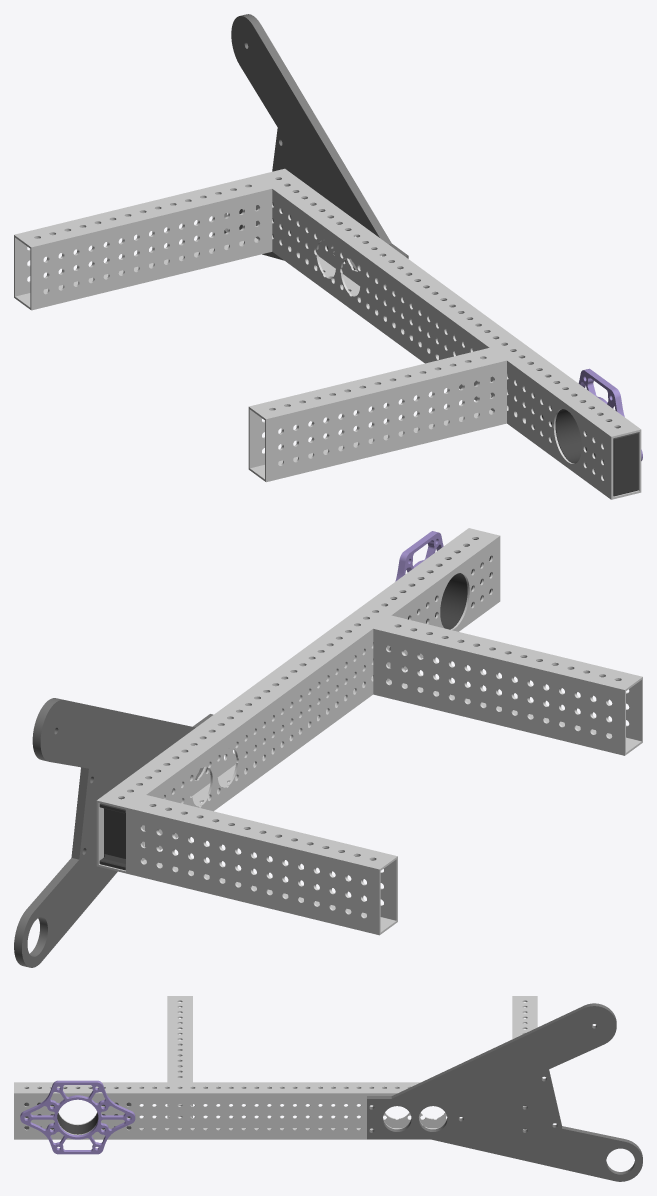
3 renders of one model, top to bottom at view 1: azimuth 30°, elevation 25°; view 2: azimuth 150°, elevation 25°; view 3: azimuth 270°, elevation 25°, orthographic. The views are drawn at different scales.
Parts seen in each view (by area): view 1: Tube 2"x1"x8" (×2), Tube 2"x1"x20.5", Part 8, Anti-Crush Block Sprocket, Sprocket Spacer; view 2: Tube 2"x1"x8" (×2), Tube 2"x1"x20.5", Part 8, Anti-Crush Block Single, Anti-Crush Block Sprocket, Sprocket Spacer; view 3: Part 8, Tube 2"x1"x20.5", Tube 2"x1"x8" (×2), Sprocket Spacer, Anti-Crush Block Sprocket.
Boxes of the visible parts, bbox=[...] form: Tube 2"x1"x8" (×2): bbox=[14, 176, 506, 482]; Tube 2"x1"x20.5": bbox=[255, 168, 641, 499]; Part 8: bbox=[224, 14, 408, 287]; Anti-Crush Block Sprocket: bbox=[533, 376, 638, 496]; Sprocket Spacer: bbox=[578, 368, 642, 460]; Tube 2"x1"x8" (×2): bbox=[128, 615, 642, 935]; Tube 2"x1"x20.5": bbox=[96, 528, 500, 873]; Part 8: bbox=[14, 698, 213, 967]; Anti-Crush Block Single: bbox=[99, 798, 125, 870]; Anti-Crush Block Sprocket: bbox=[385, 539, 490, 650]; Sprocket Spacer: bbox=[395, 531, 443, 581]; Part 8: bbox=[367, 1003, 642, 1181]; Tube 2"x1"x20.5": bbox=[14, 1082, 526, 1139]; Tube 2"x1"x8" (×2): bbox=[167, 996, 537, 1117]; Sprocket Spacer: bbox=[20, 1080, 135, 1154]; Anti-Crush Block Sprocket: bbox=[24, 1088, 131, 1134].
Size of the model in its own units: 0.2349 by 0.1929 by 0.6253.
